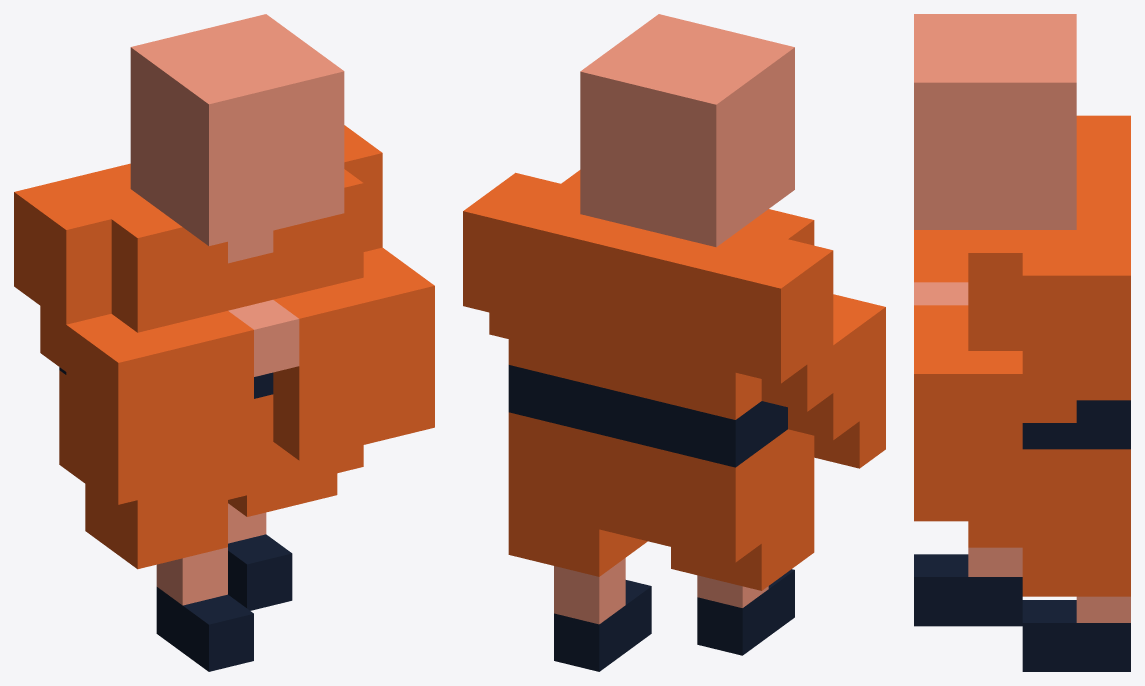
File: monk_walk_0.obj
3 views of the same model, side by side, from view 1: azimuth 30°, elevation 25°; view 2: azimuth 150°, elevation 25°; view 3: azimuth 270°, elevation 25° (orthographic). The views are drawn at different scales.
Bounding box in the file's own units: 0.7 × 1.2 × 0.4.
1 material, 1 textured.
